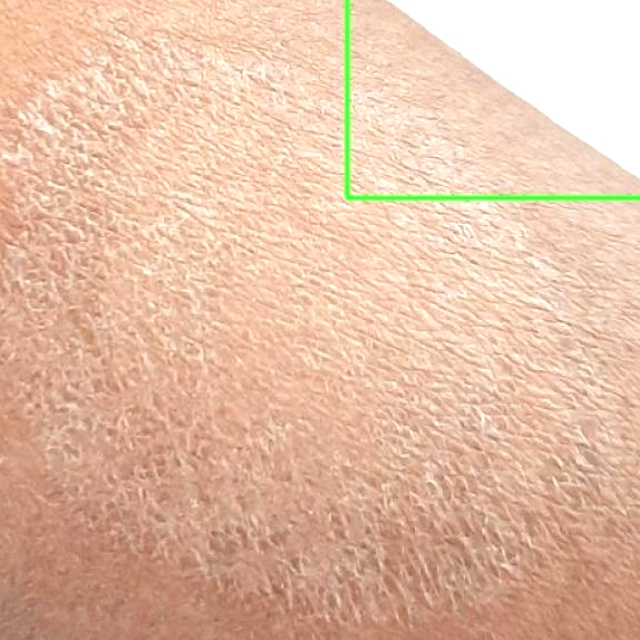Tinea Corporis: (347, 0, 639, 197)
